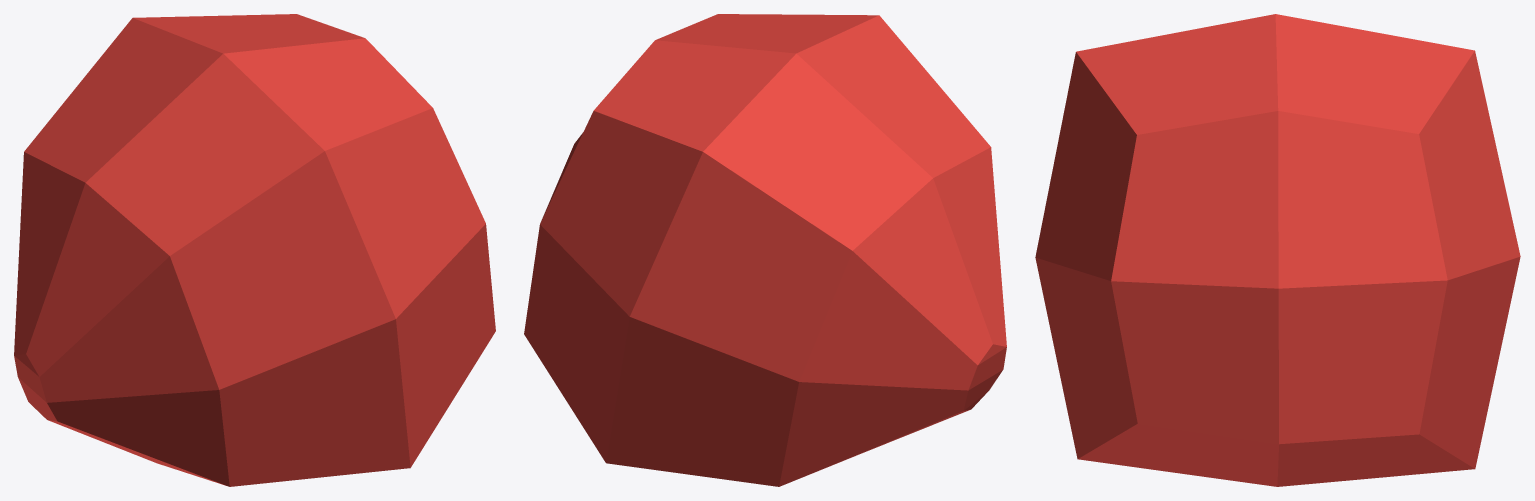
File: grapefruit.fbx
The picture shows the model from 3 angles, left to right: view 1: azimuth 30°, elevation 25°; view 2: azimuth 150°, elevation 25°; view 3: azimuth 270°, elevation 25°; orthographic projection. The views are drawn at different scales.
Parts seen in each view (by area): view 1: grapefruit; view 2: grapefruit; view 3: grapefruit.
Part boxes in pixels (box(x1,y1,x2,y2)): grapefruit: box(14, 14, 495, 486); grapefruit: box(524, 14, 1006, 486); grapefruit: box(1035, 14, 1520, 486).
Bounding box in the file's own units: 6.4 × 5.65 × 5.9.
Materials: 1 (1 with a texture image).
